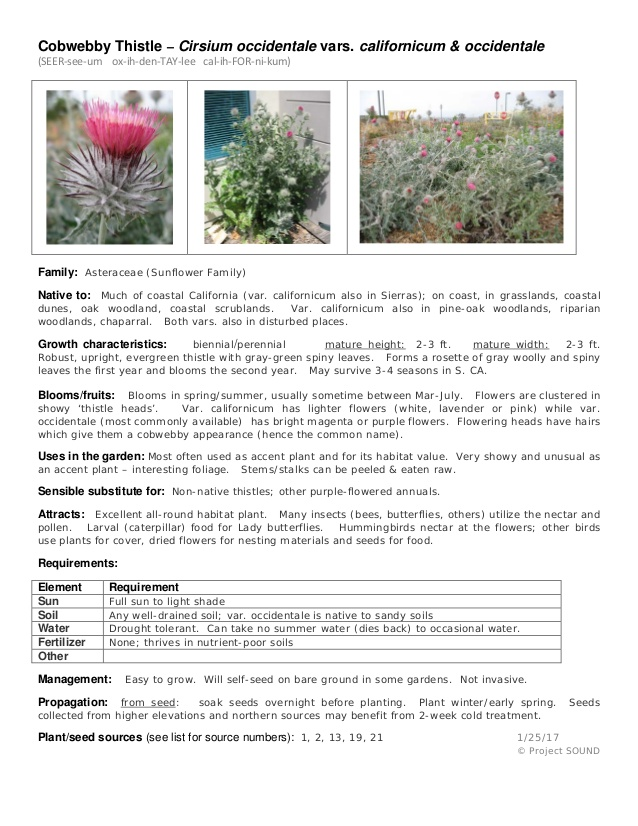thistle: (70, 95, 163, 220)
